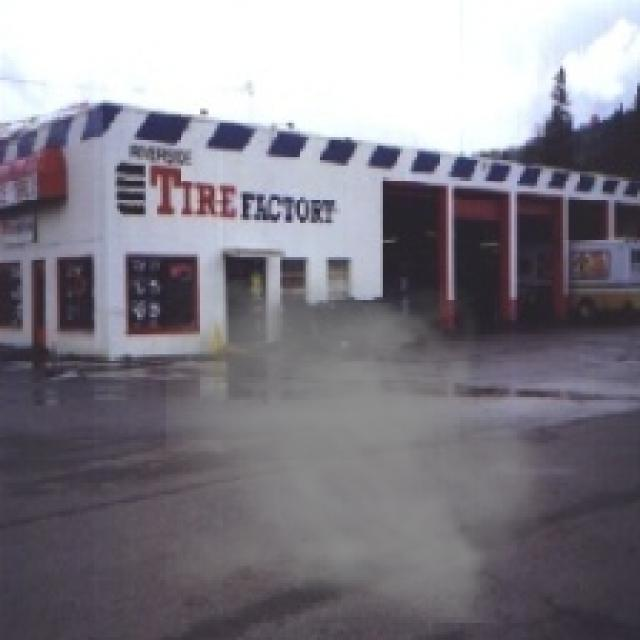smoke: (166, 277, 563, 623)
